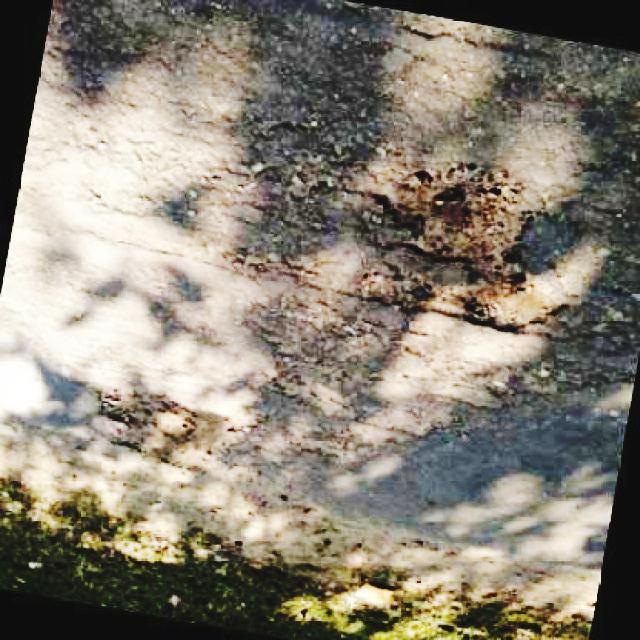pothole: (363, 155, 572, 334), (99, 380, 243, 477)
